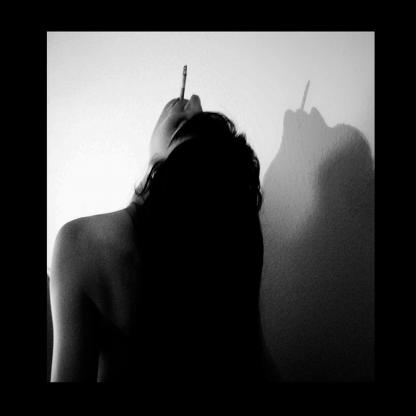smoking: (180, 66, 187, 102)
